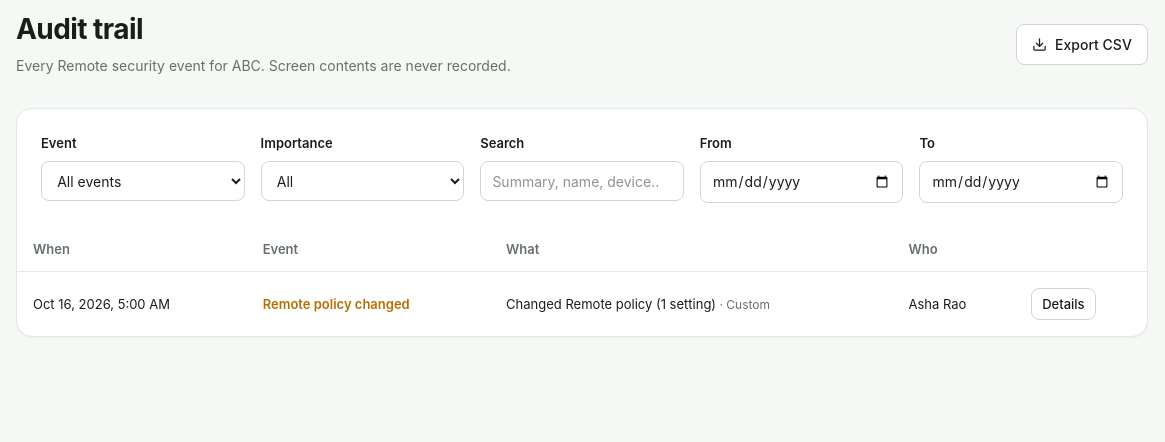
Test: Audit trail page › sends the chosen filters to the export as well as the list
Expected: the text "Changed Remote policy (1 setting)" is shown, [506, 296, 716, 312]
Select "Security" in the dropdown labelled "Importance" at (362, 181), box [261, 161, 464, 201]
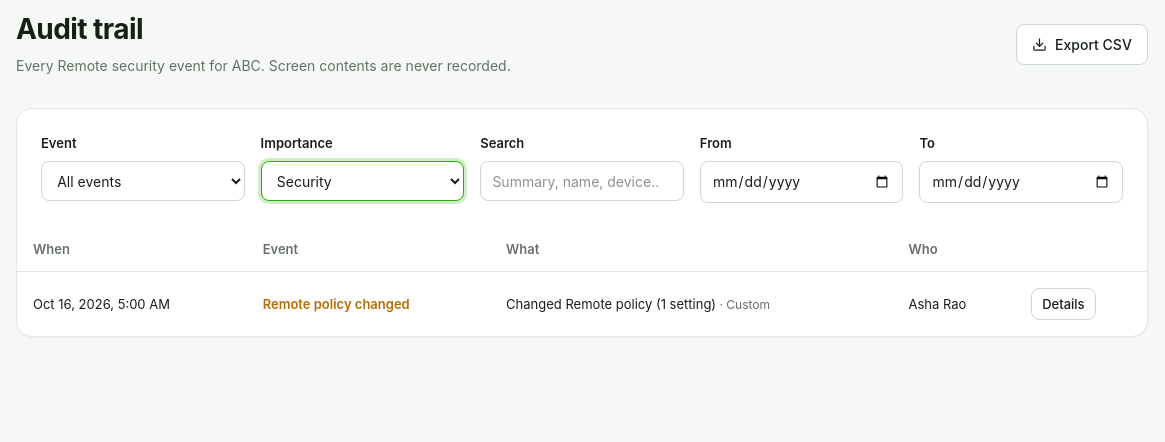
Click the button "Export CSV".
click(1082, 45)  # box [1016, 24, 1148, 65]
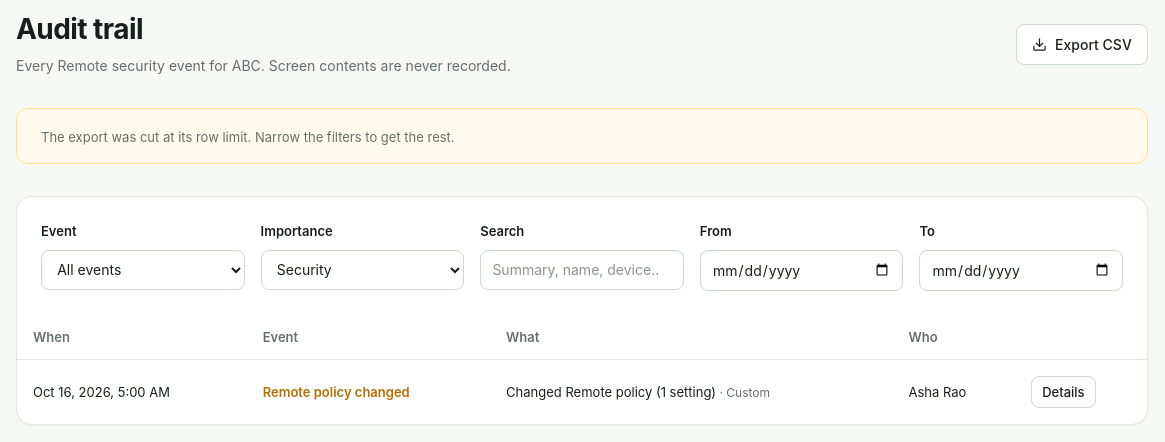
Expected: the text "cut at its row limit" is shown, [41, 129, 455, 145]
